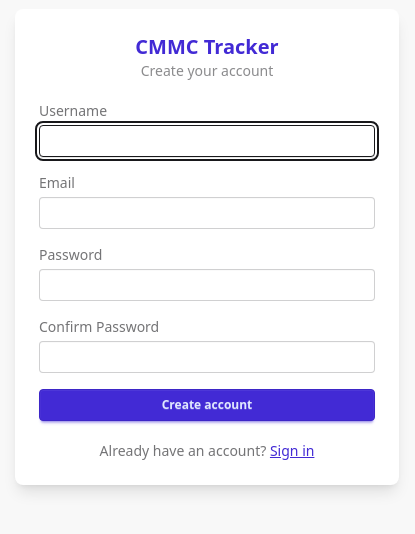
Test: RegisterPage › displays error message on registration failure
The image size is (415, 534).
Type "existinguser" into the field labelled "Username" at [207, 141], box x1=39 y1=125 x2=375 y2=157
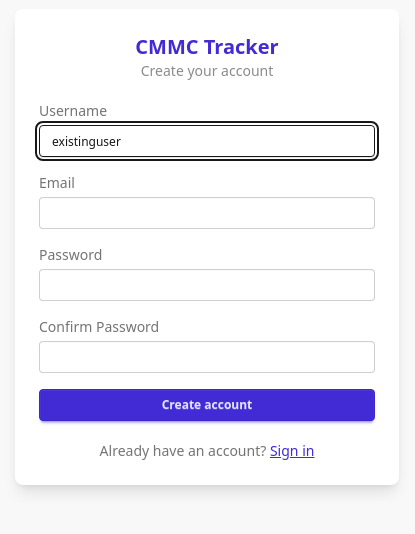
Type "test@example.com" into the field labelled "Email" at [207, 213], box x1=39 y1=197 x2=375 y2=229
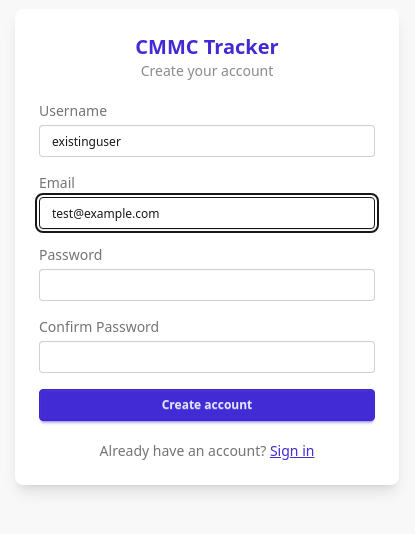
Type "password123" into the password field labelled "Password" at [207, 285], box x1=39 y1=269 x2=375 y2=301
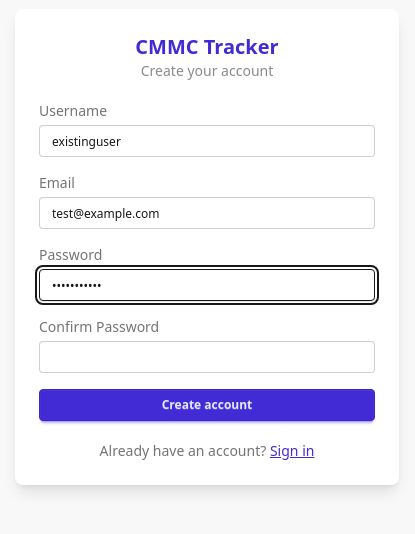
Type "password123" into the password field labelled "Confirm Password" at [207, 357], box x1=39 y1=341 x2=375 y2=373
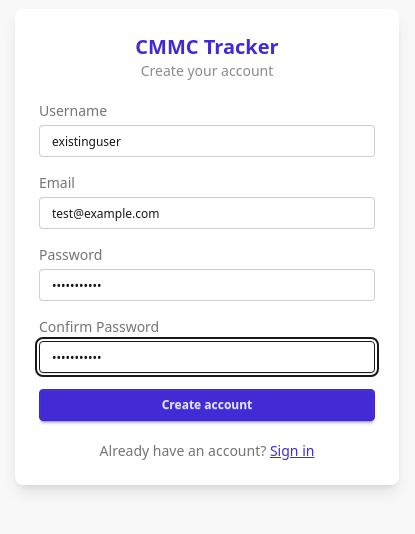
Click the button "Create account" at [207, 405], box x1=39 y1=389 x2=375 y2=421
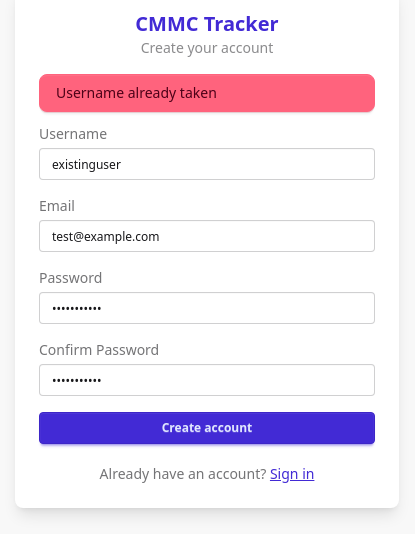
Check: the text "Username already taken" is shown, box x1=39 y1=74 x2=375 y2=112
